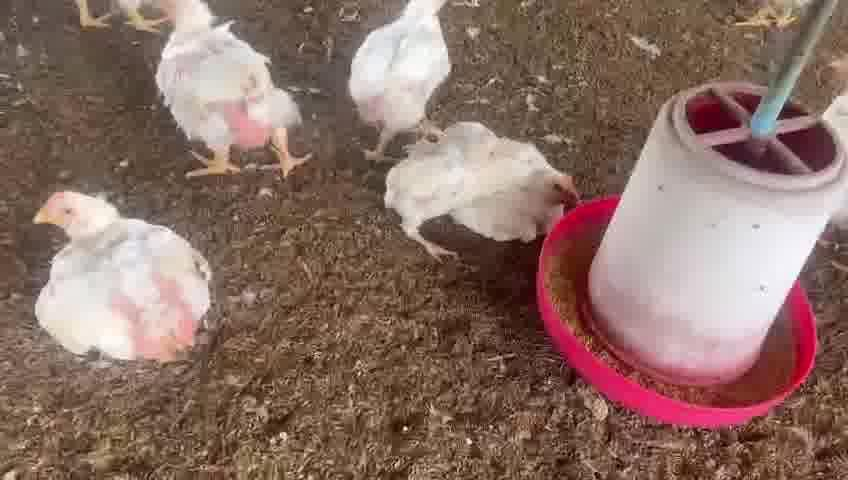AbNormal: (30, 188, 211, 363), (388, 115, 574, 261)
Normal: (148, 3, 309, 179), (352, 4, 458, 153)
